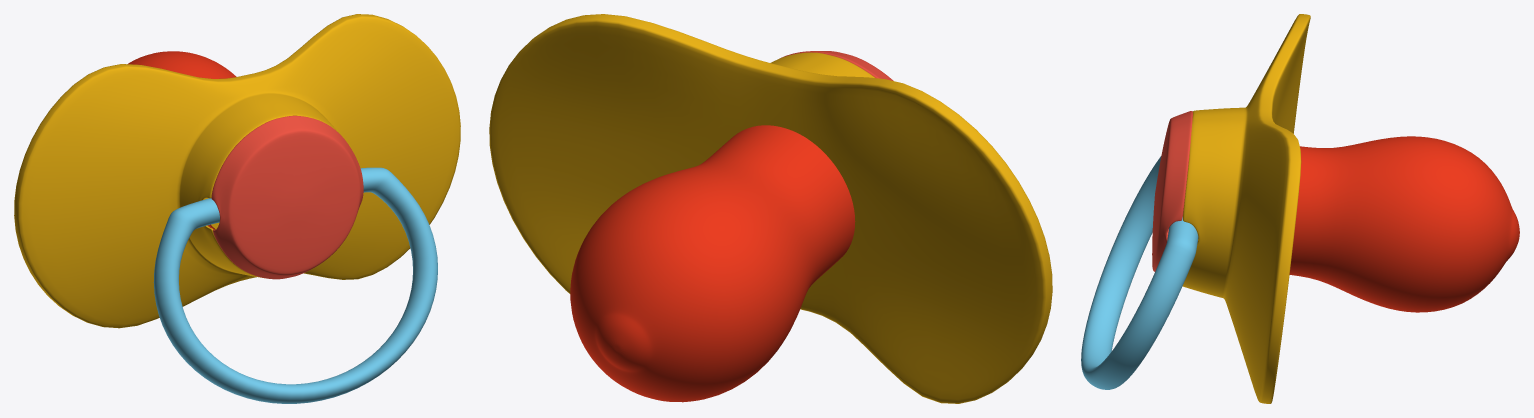
Rendered from pacifier for game.fbx.
The picture shows the model from 3 angles, left to right: view 1: azimuth 30°, elevation 25°; view 2: azimuth 150°, elevation 25°; view 3: azimuth 270°, elevation 25°; orthographic projection. The views are drawn at different scales.
Visible parts, largest first — view 1: 11690_Pacifier_v1_L3; view 2: 11690_Pacifier_v1_L3; view 3: 11690_Pacifier_v1_L3.
Boxes of the visible parts, x1,y1,x2,y2 form: 11690_Pacifier_v1_L3: (14,14,460,403); 11690_Pacifier_v1_L3: (489,14,1052,403); 11690_Pacifier_v1_L3: (1081,14,1519,403).
Bounding box in the file's own units: 150 × 94.44 × 127.
